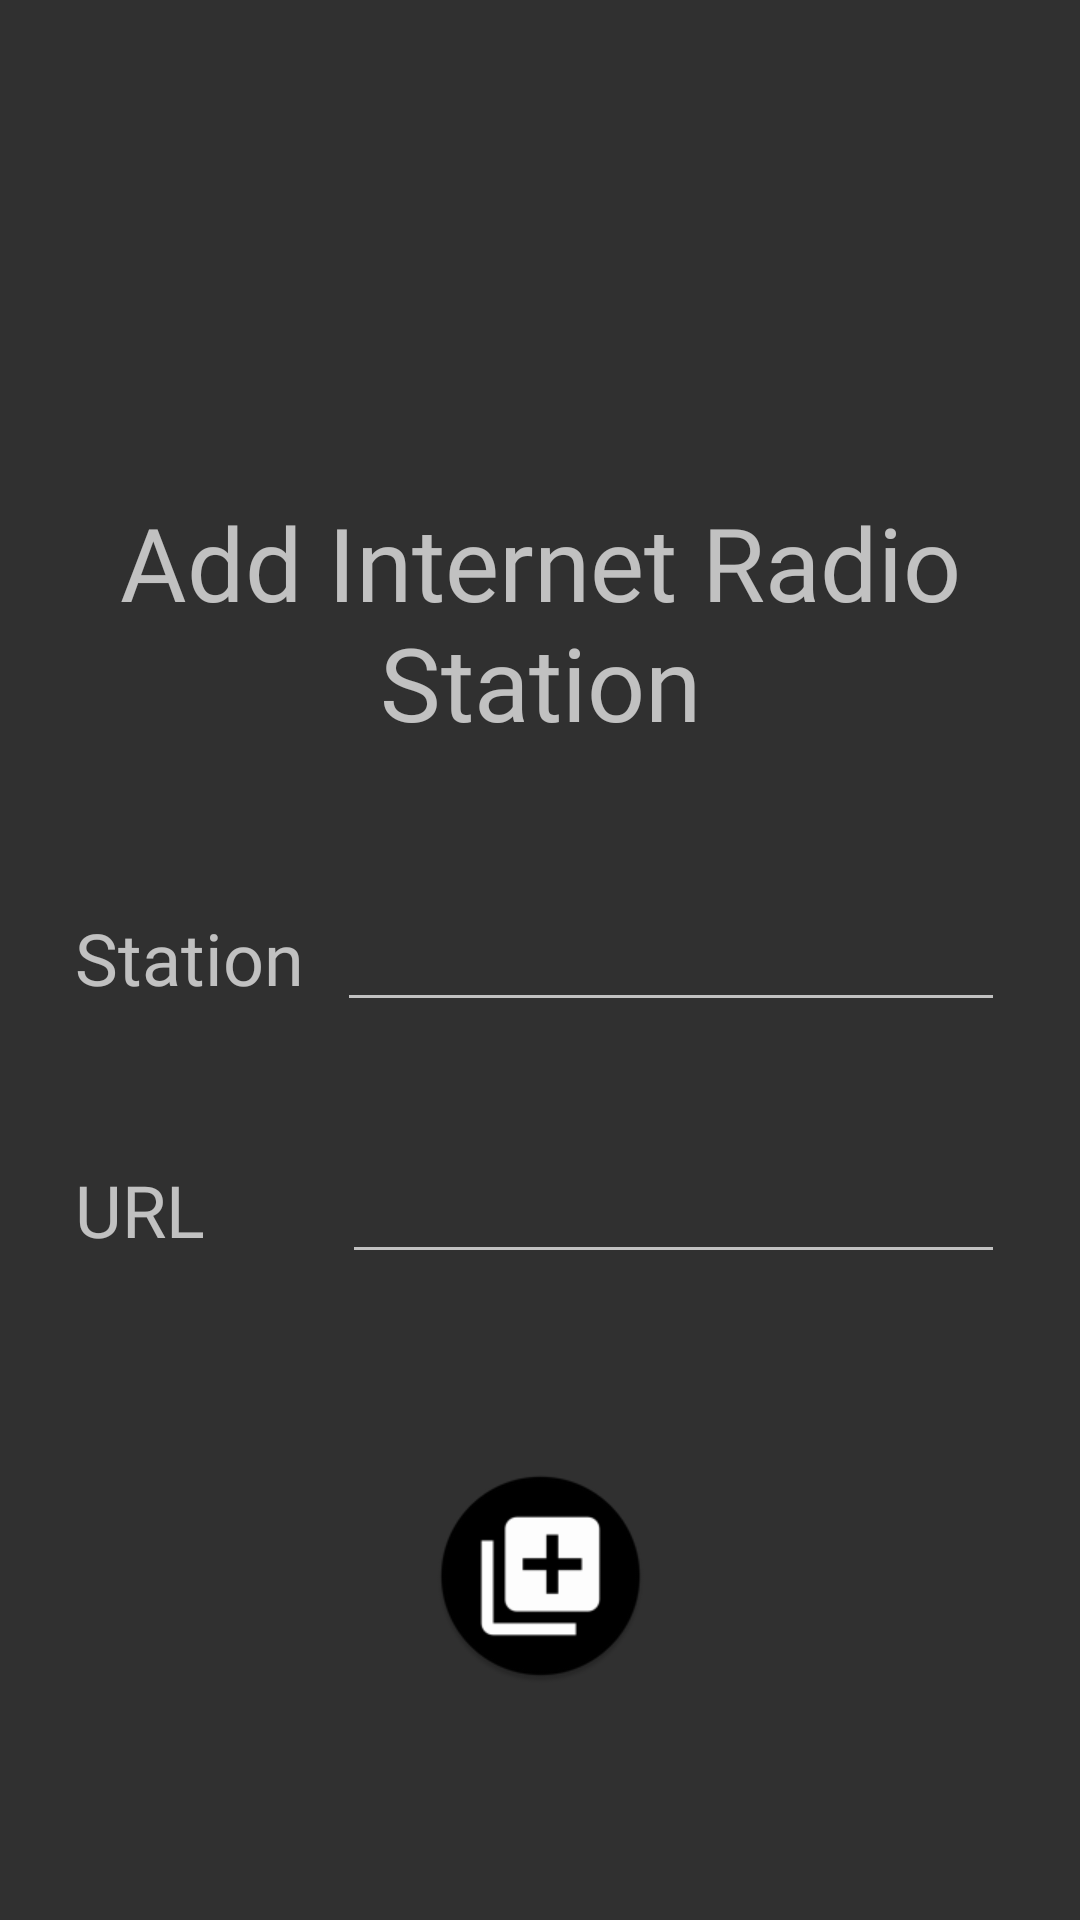

Screen size 1080px×1920px. Icon name, then its box in pixels as (x1, y1, x2, y2):
add invert: (441, 1477, 640, 1675)
